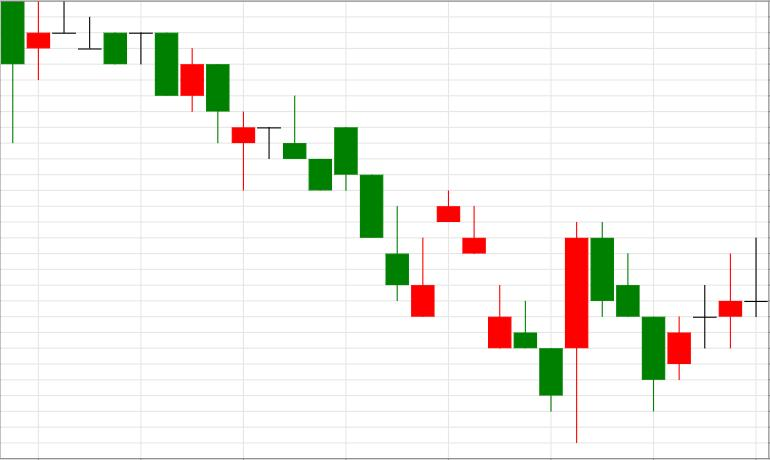inverse_hammer_rise: (283, 95, 435, 318)
